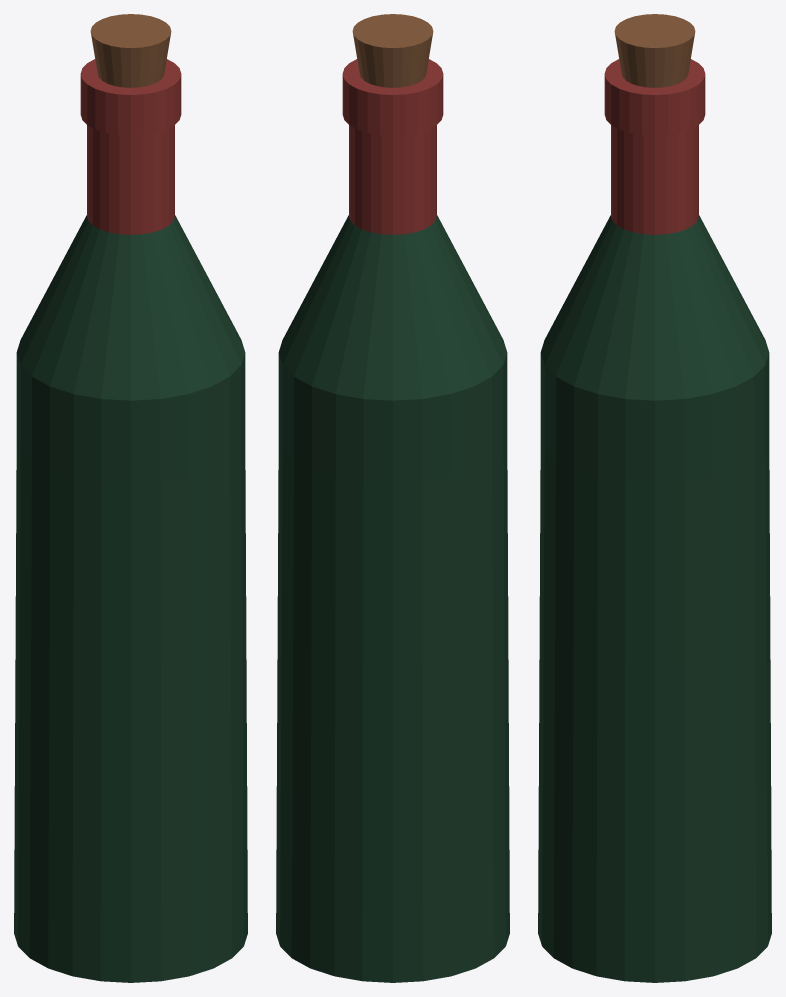
File: Cocina botella vino.fbx
3 views of the same model, side by side, from view 1: azimuth 30°, elevation 25°; view 2: azimuth 150°, elevation 25°; view 3: azimuth 270°, elevation 25° (orthographic).
Parts seen in each view (by area): view 1: Botella vino; view 2: Botella vino; view 3: Botella vino.
Boxes of the visible parts, x1,y1,x2,y2 form: Botella vino: (14,14,247,982); Botella vino: (276,14,509,982); Botella vino: (538,14,771,982).
Size of the model in its own units: 9.53 by 40.59 by 9.53.
